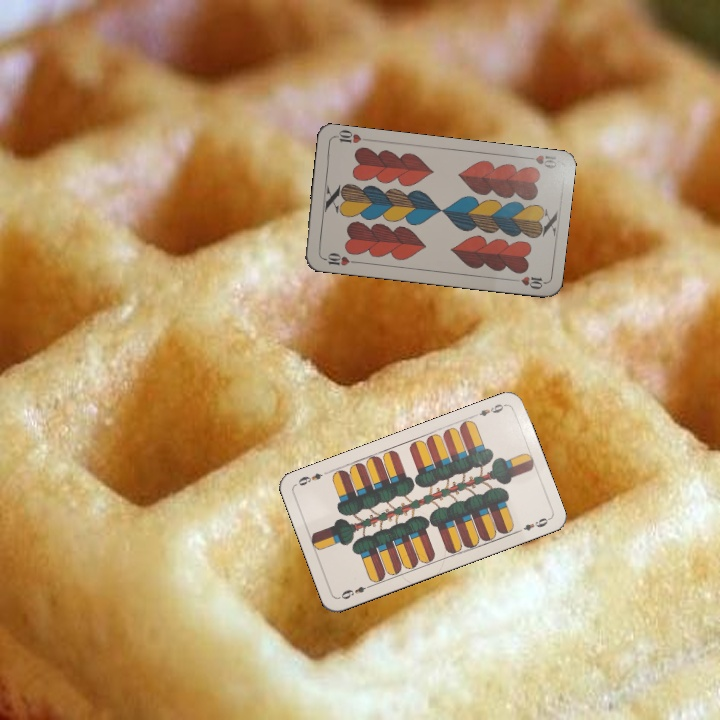E9: (337, 581, 375, 602), (469, 400, 508, 420)
H10: (520, 151, 559, 172), (318, 249, 359, 268)
